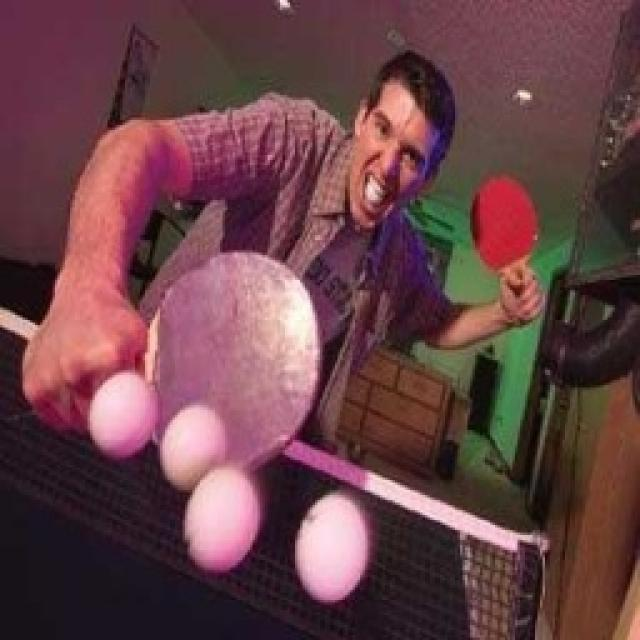ping-pong-ball: (294, 492, 369, 601), (184, 468, 260, 570), (86, 371, 158, 457), (162, 402, 226, 488)
